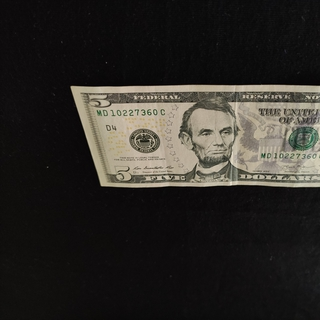5USDFront: (69, 83, 320, 188)
